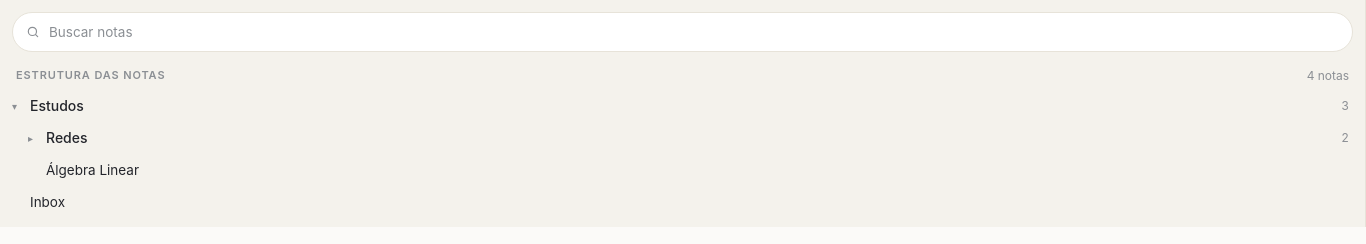
BarraLateral › busca › filtra as notas e abre as pastas que contêm o resultado
Type "tcp" into the search field named "Buscar nas notas".
click(682, 32); type("tcp")  # box [12, 12, 1353, 52]
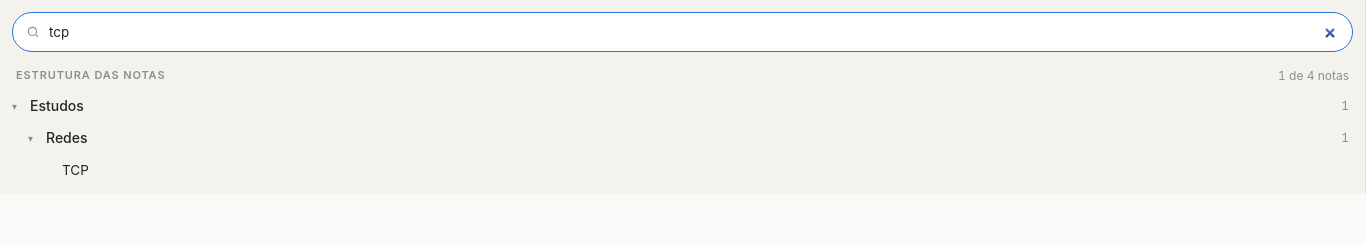
Now the text "TCP" is shown, box [62, 160, 89, 180]
Now the button "Inbox" is gone
